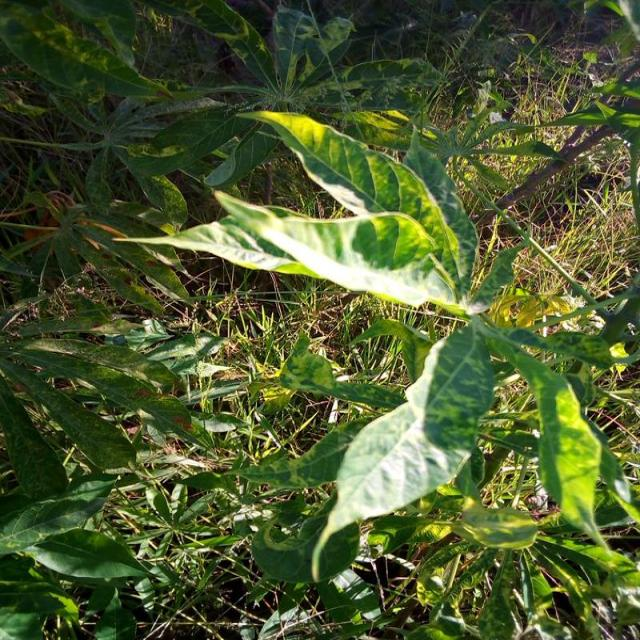cassava leaf: (108, 104, 634, 589), (112, 108, 484, 314), (310, 317, 494, 583)
